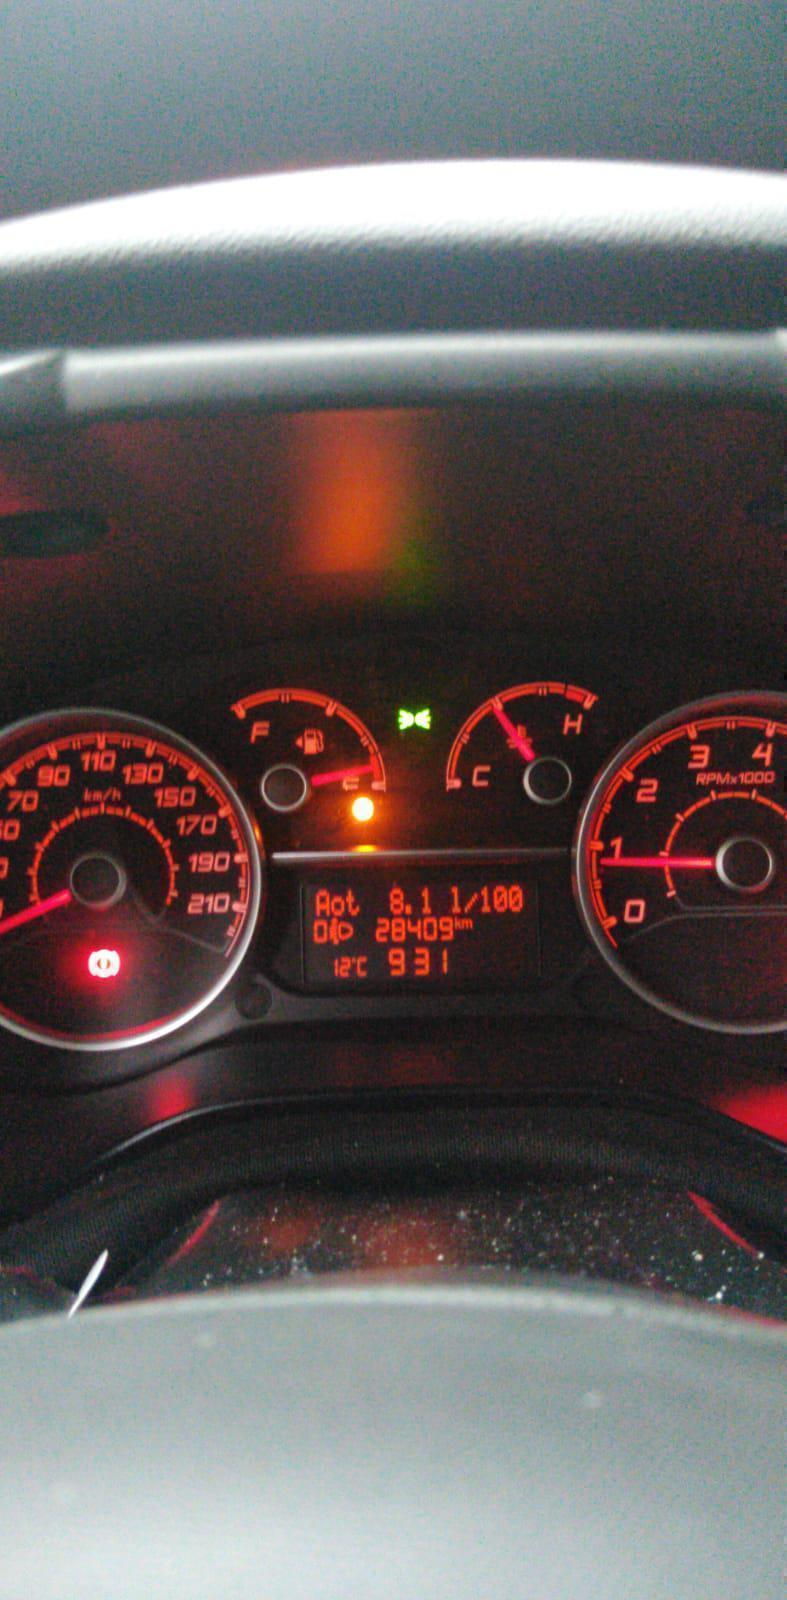,: (403, 902, 414, 914)
0: (493, 884, 508, 913), (421, 916, 439, 941), (311, 918, 329, 944), (509, 884, 524, 913)
1: (419, 885, 432, 914), (438, 946, 450, 976), (480, 883, 491, 913), (330, 957, 338, 977)
2: (373, 915, 390, 943), (338, 956, 351, 978)
3: (411, 946, 431, 977)
4: (405, 917, 421, 941)
8: (386, 885, 404, 914), (390, 917, 405, 942)
9: (386, 946, 407, 977), (439, 916, 454, 940)
X: (344, 887, 361, 917), (446, 884, 462, 915), (314, 886, 330, 918), (329, 893, 346, 917), (461, 891, 479, 912), (356, 955, 368, 977), (460, 917, 475, 929), (453, 915, 461, 930)
odometer: (289, 867, 553, 1000)
